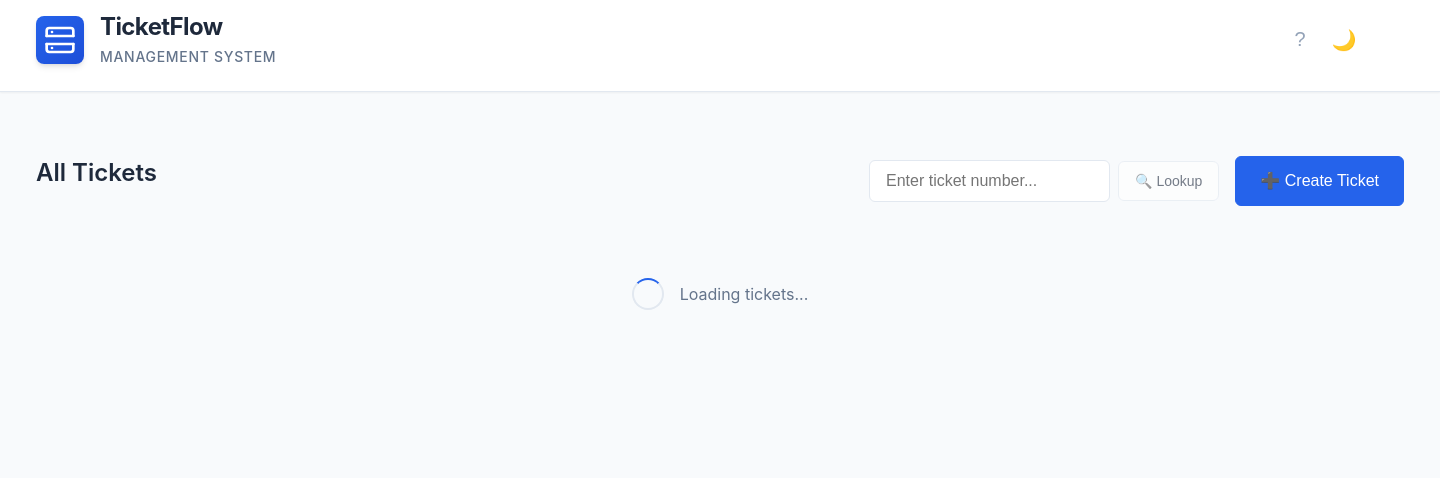
Test: App - Ticket Lookup › shows loading state during lookup
This screenshot has width=1440, height=478.
expect the heading "All Tickets" is shown: met, box [36,158,157,188]
In the field with placeholder "Enter ticket number...": (990, 181) [869,160,1110,202], type "123456789"
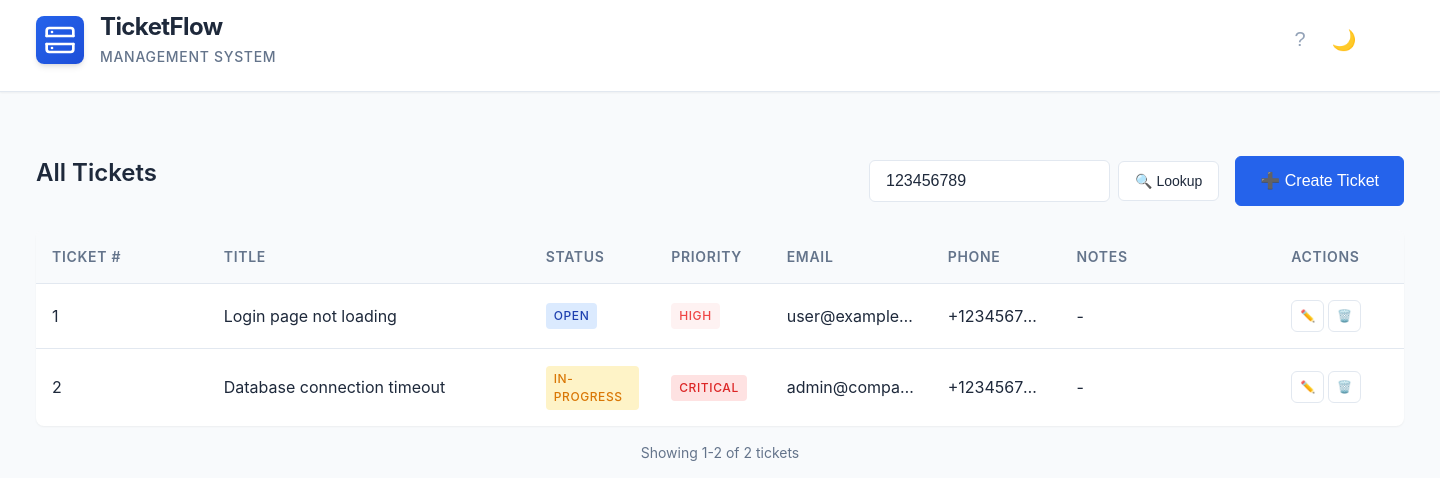
Click the button "🔍 Lookup": click(1169, 181) [1118,161,1219,201]
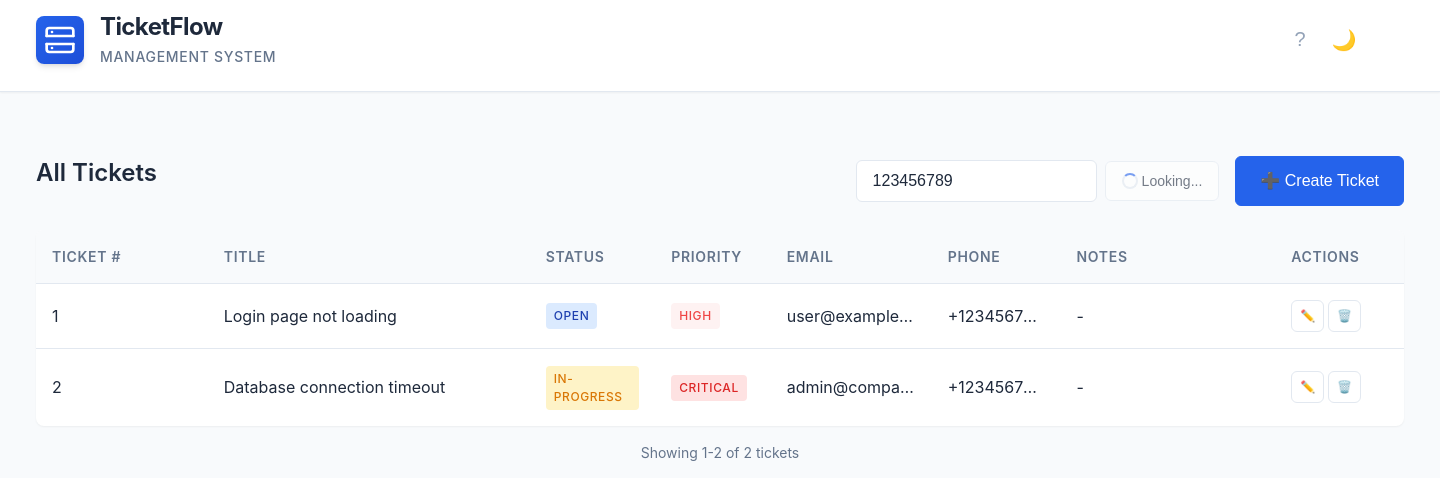
expect the button "Looking..." is shown: met, box [1105,161,1219,201]
expect the field with placeholder "Enter ticket number..." is disabled: met, box [856,160,1097,202]
